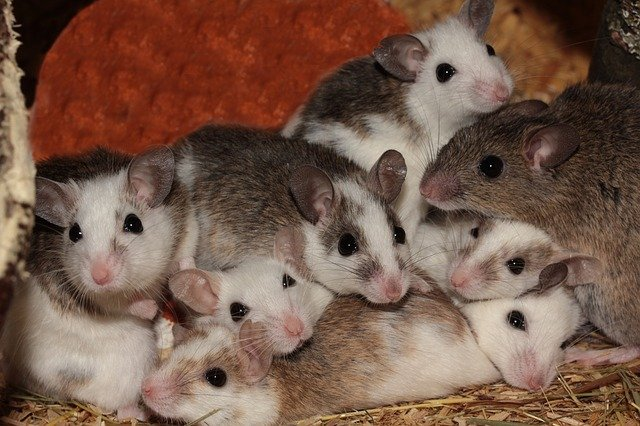mouse: (267, 160, 413, 317), (27, 160, 179, 305), (368, 7, 546, 113), (417, 115, 599, 216), (423, 201, 598, 304), (179, 252, 332, 354), (449, 291, 580, 397), (130, 332, 270, 421)
